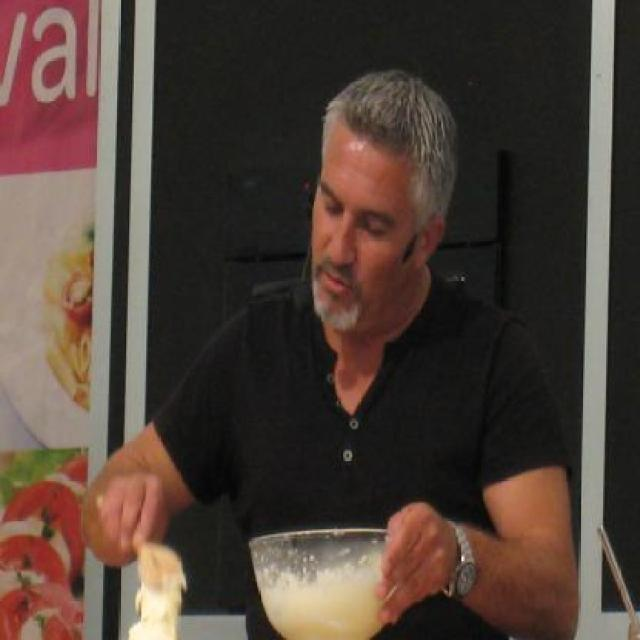Person: (107, 68, 565, 640)
